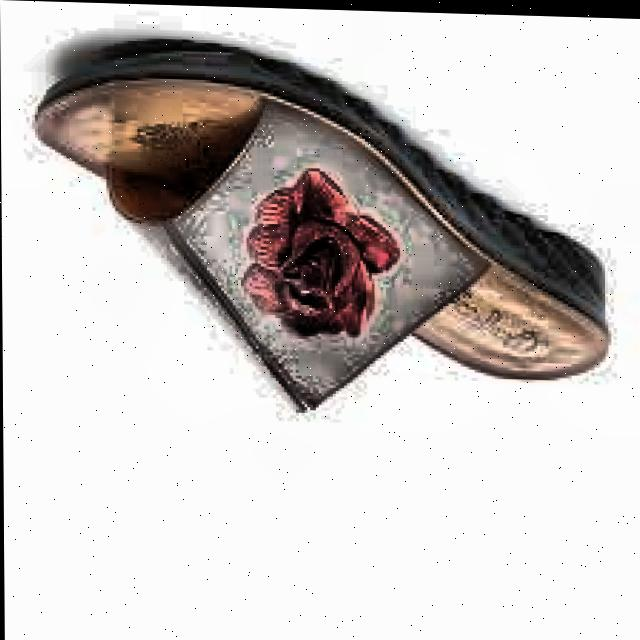shoes: (26, 14, 603, 404)
